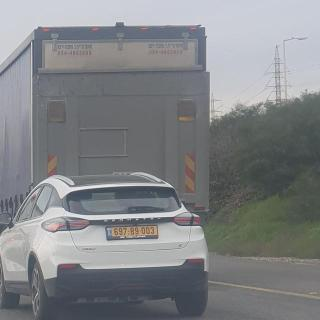LicensePlate: (111, 226, 157, 237)
